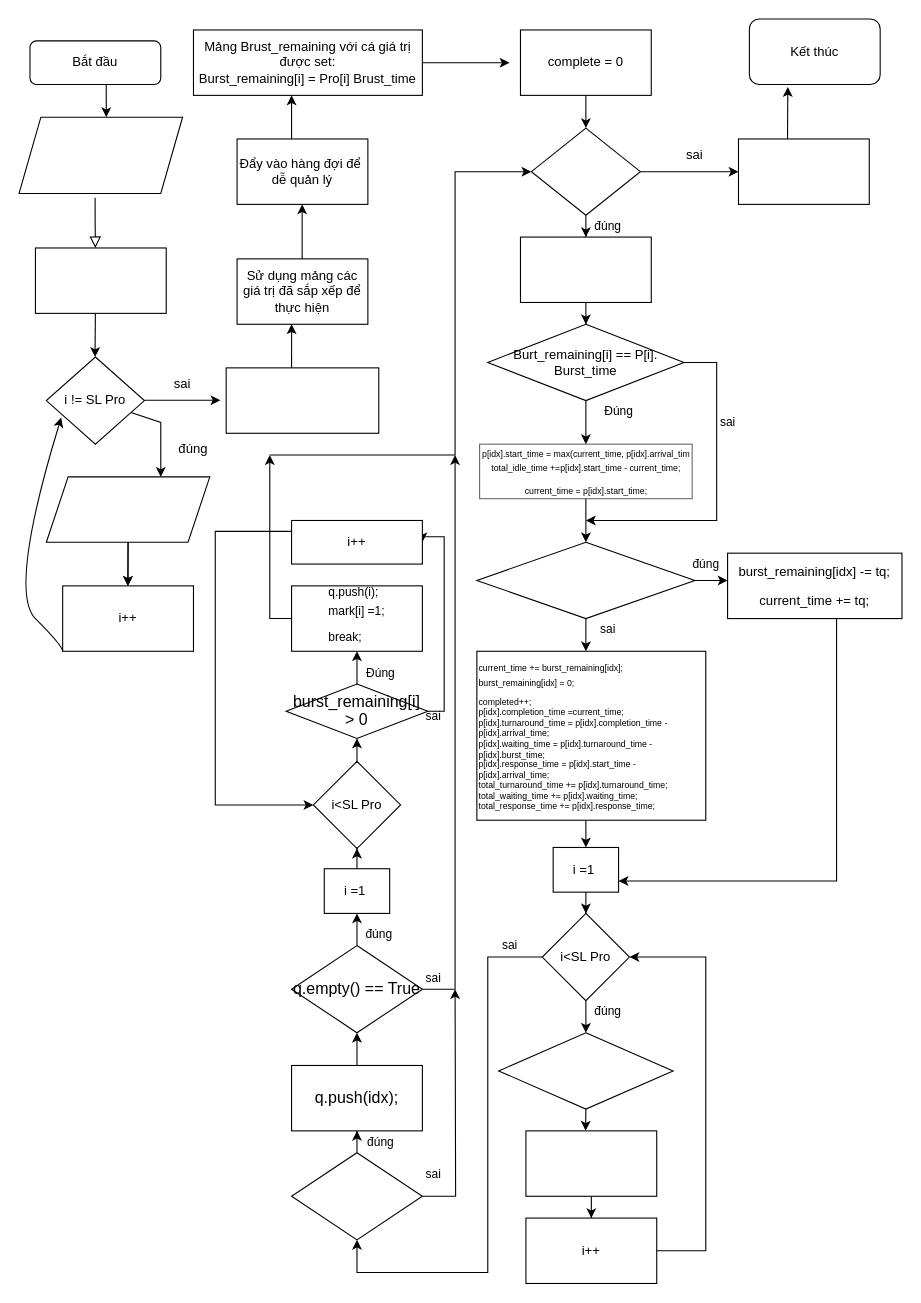
The diagram is 921 pixels wide and 1303 high, and some of its shapes have lost their labels. Each missing label, with the centre of its shape:
(burst_remaining[i]> 0 && p[i].arrival_time <= current_time && mark[i] == 0: pixel 585 1070
(burst_remaining[idx]> 0: pixel 356 1196
burst_remaining[idx]- tq > 0: pixel 585 580
complete != n: pixel 585 171
i = 0: pixel 100 280
Nhập số lượng PRO Nhập thời gian cho QT Time: pixel 100 154
Nhập thông tin cho Pro[i] gồm Burt Time - Arrival tme: pixel 127 509
q.push(i); mark[i] = 1;: pixel 591 1163
Thực hiện chuỗi so sánh các tiến trình bằng giá trị arrival time: pixel 302 400
Trả về các giá trị cần thiết như TAT - WT - RT: pixel 803 171
Xuất từng Pro trong hàng đợi ra: pixel 585 269
